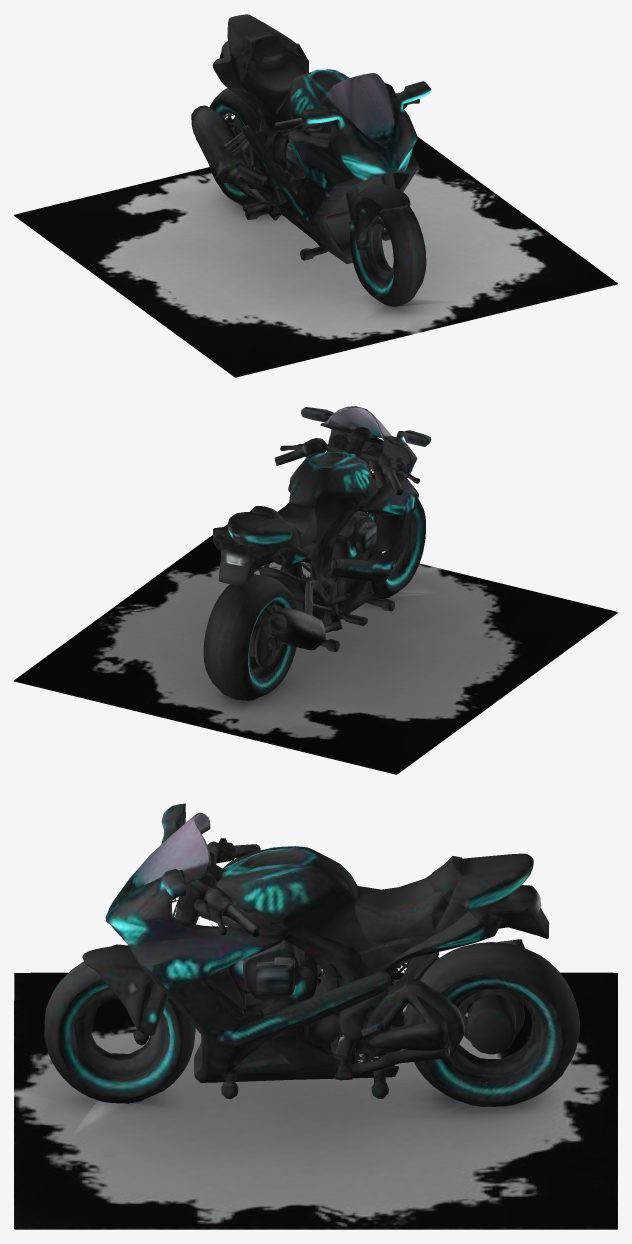
File: cycle.glb
The picture shows the model from 3 angles, top to bottom: view 1: azimuth 30°, elevation 25°; view 2: azimuth 150°, elevation 25°; view 3: azimuth 270°, elevation 25°; orthographic projection. The views are drawn at different scales.
Parts seen in each view (by area): view 1: geometry_0; view 2: geometry_0; view 3: geometry_0.
Boxes of the visible parts, left/top/right/bottom form: geometry_0: left=14, top=14, right=617, bottom=377; geometry_0: left=14, top=406, right=617, bottom=774; geometry_0: left=14, top=803, right=617, bottom=1229.
Bounding box in the file's own units: 1 × 0.5199 × 1.
1 material, 1 textured.
